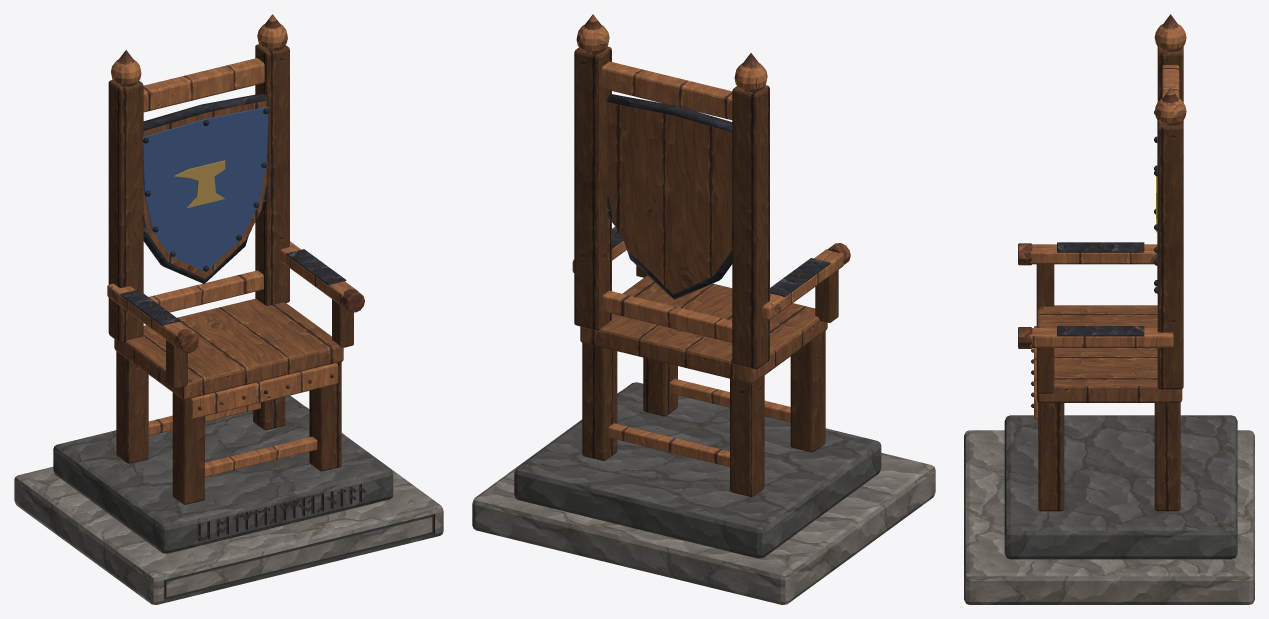
Rendered from hs_captains_chair.glb.
The picture shows the model from 3 angles, left to right: view 1: azimuth 30°, elevation 25°; view 2: azimuth 150°, elevation 25°; view 3: azimuth 270°, elevation 25°; orthographic projection. The views are drawn at different scales.
Visible parts, largest first — view 1: model; view 2: model; view 3: model.
Part boxes in pixels (box(x1,y1,x2,y2)): model: box(14, 14, 443, 604); model: box(472, 14, 935, 604); model: box(964, 14, 1254, 604).
Size of the model in its own units: 1.2 by 1.83 by 1.
11 materials, 8 textured.
